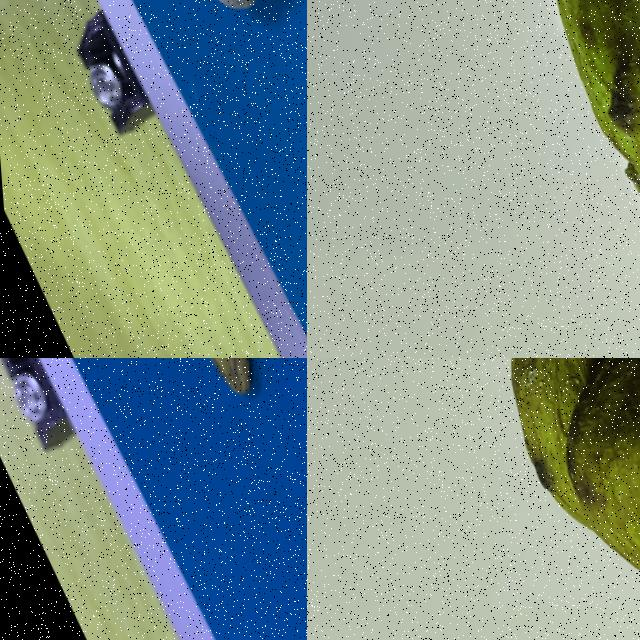Agglomerated_cocoabeans: (383, 358, 639, 639), (451, 0, 639, 357), (91, 0, 306, 117)
Flat_cocoabeans: (92, 358, 306, 480)
